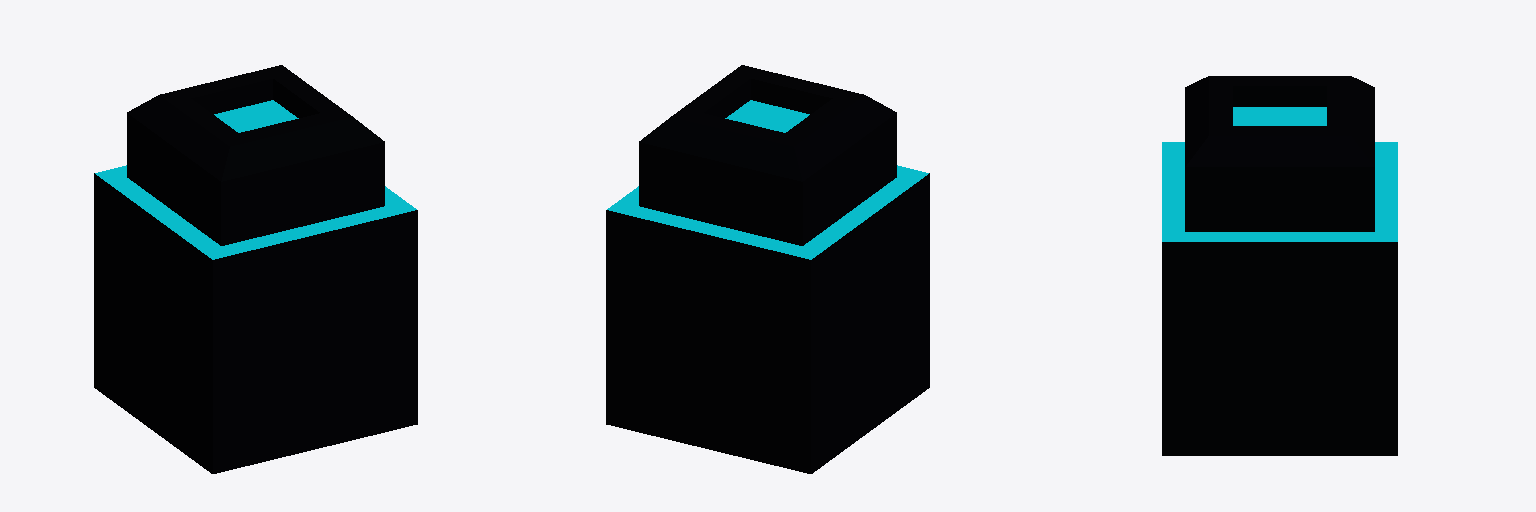
File: low_buildingH_CyPk.obj
3 renders of one model, left to right at view 1: azimuth 30°, elevation 25°; view 2: azimuth 150°, elevation 25°; view 3: azimuth 270°, elevation 25°, orthographic.
Parts seen in each view (by area): view 1: low_buildingH; view 2: low_buildingH; view 3: low_buildingH.
Boxes of the visible parts, x1,y1,x2,y2 form: low_buildingH: [94, 65, 417, 473]; low_buildingH: [606, 65, 929, 473]; low_buildingH: [1162, 76, 1397, 455].
Bounding box in the file's own units: 0.5 × 0.7 × 0.5.